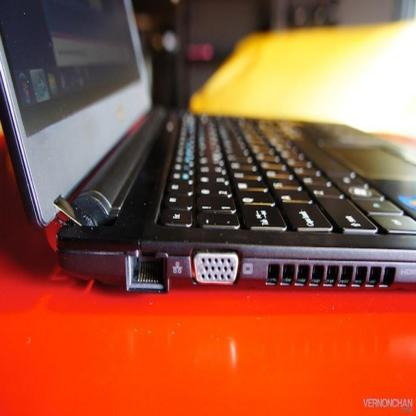board: (0, 0, 415, 292)
